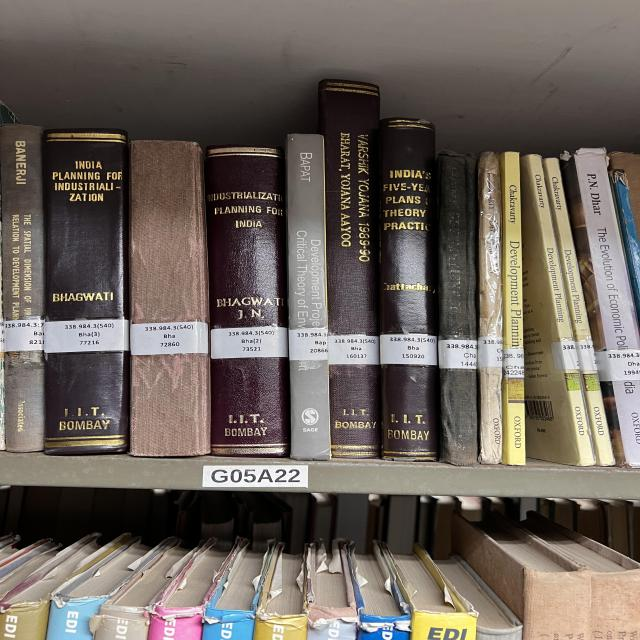Book: (205, 145, 288, 456), (130, 141, 210, 456), (563, 148, 640, 468), (318, 80, 380, 458), (520, 155, 595, 466), (543, 158, 615, 466), (378, 118, 438, 460), (0, 125, 45, 451), (287, 134, 332, 460), (438, 151, 478, 465), (477, 152, 503, 464), (500, 152, 525, 465)
Label: (43, 319, 130, 352), (130, 321, 208, 355), (210, 326, 288, 359), (380, 334, 438, 366), (328, 335, 380, 365), (595, 349, 640, 381), (288, 328, 328, 361), (5, 319, 43, 351), (438, 339, 477, 369), (477, 336, 503, 368), (552, 341, 580, 370), (552, 341, 580, 370), (503, 349, 525, 379)
